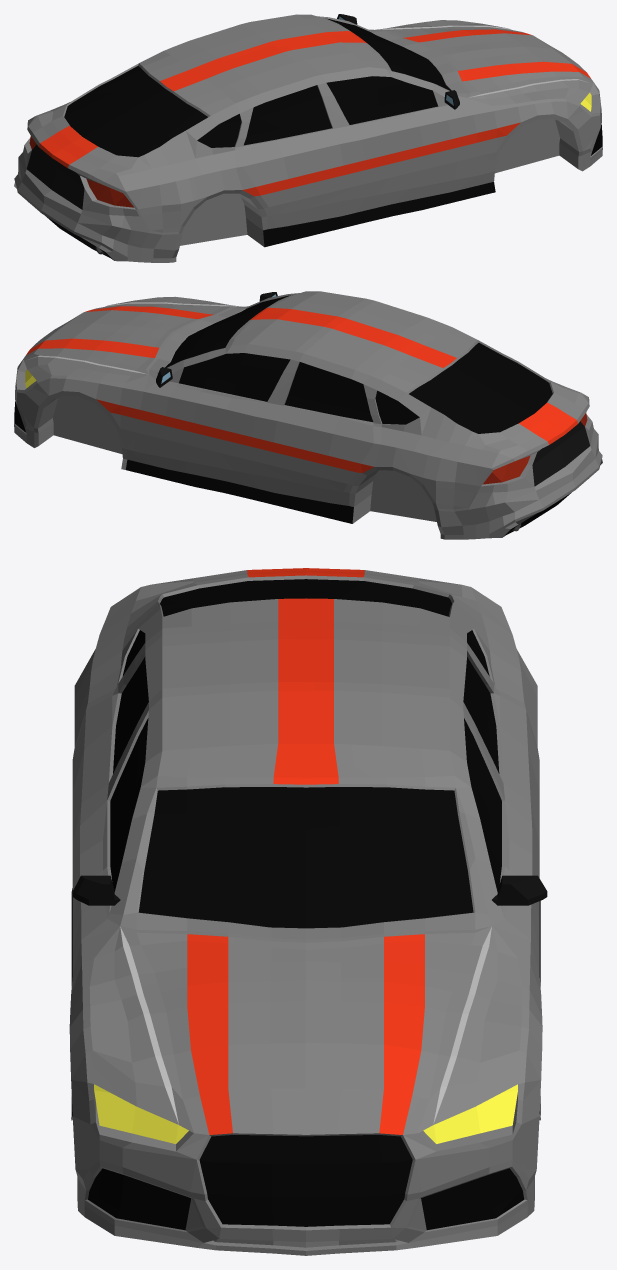
Rendered from base_audi.glb.
The picture shows the model from 3 angles, top to bottom: view 1: azimuth 30°, elevation 25°; view 2: azimuth 150°, elevation 25°; view 3: azimuth 270°, elevation 25°; orthographic projection. The views are drawn at different scales.
Parts seen in each view (by area): view 1: base, windows, stripes, side, back, backlights, stripes2, bumper; view 2: base, windows, stripes, side, back, backlights, stripes2, bumper; view 3: base, windows, stripes, bumper, headlights, outer_mirrors_base, stripes2.
Boxes of the visible parts, <box> form: base: <box>14,14,602,262</box>; windows: <box>64,18,451,157</box>; stripes: <box>39,29,590,196</box>; side: <box>263,182,495,247</box>; back: <box>27,144,84,209</box>; backlights: <box>29,136,133,207</box>; stripes2: <box>378,25,587,97</box>; bumper: <box>46,124,602,260</box>; base: <box>14,291,602,539</box>; windows: <box>165,295,552,433</box>; stripes: <box>26,306,577,472</box>; side: <box>126,459,353,523</box>; back: <box>532,421,590,486</box>; backlights: <box>483,412,587,484</box>; stripes2: <box>28,302,240,374</box>; bumper: <box>14,401,570,536</box>; base: <box>69,570,542,1255</box>; windows: <box>110,579,501,928</box>; stripes: <box>187,568,424,1134</box>; bumper: <box>88,1135,524,1230</box>; headlights: <box>94,1084,517,1143</box>; outer_mirrors_base: <box>73,875,547,905</box>; stripes2: <box>120,927,491,1124</box>.
Size of the model in its own units: 4.16 by 1.06 by 1.6.
